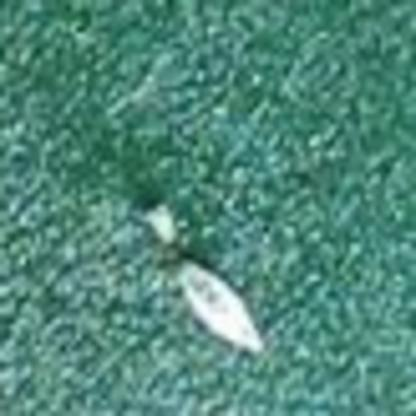ship: (134, 198, 292, 362)
